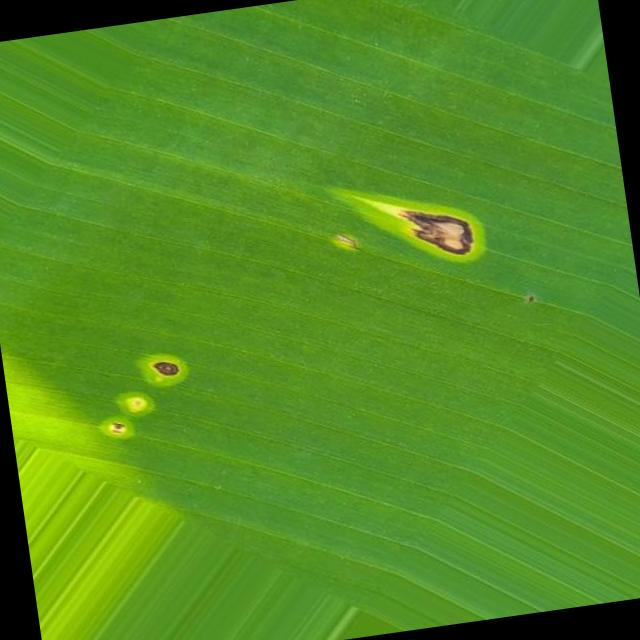Banana_Black_Sigatoka: (72, 332, 211, 466), (361, 180, 494, 288)
